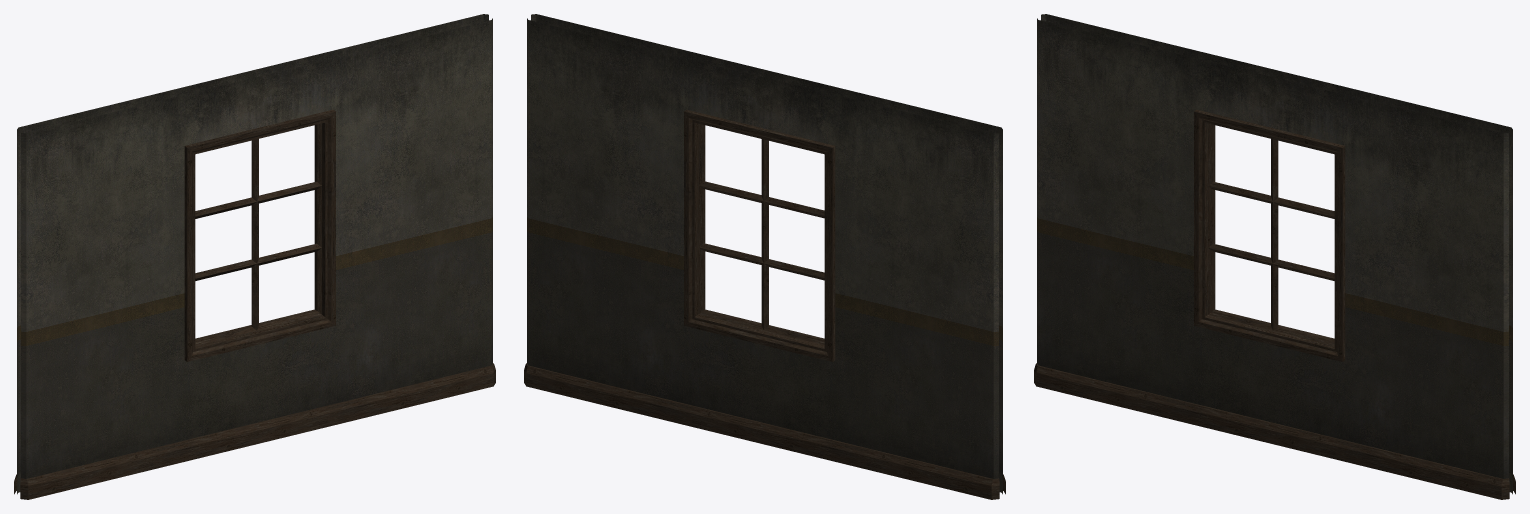
File: window_2_single_no_glass.obj
3 renders of one model, left to right at view 1: azimuth 30°, elevation 25°; view 2: azimuth 150°, elevation 25°; view 3: azimuth 330°, elevation 25°, orthographic.
Visible parts, largest first — view 1: window_2_single_no_glass; view 2: window_2_single_no_glass; view 3: window_2_single_no_glass.
Part boxes in pixels (<box>): window_2_single_no_glass: <box>14,14,495,499</box>; window_2_single_no_glass: <box>524,14,1005,499</box>; window_2_single_no_glass: <box>1034,14,1515,499</box>.
Size of the model in its own units: 4.09 by 3 by 0.2.
